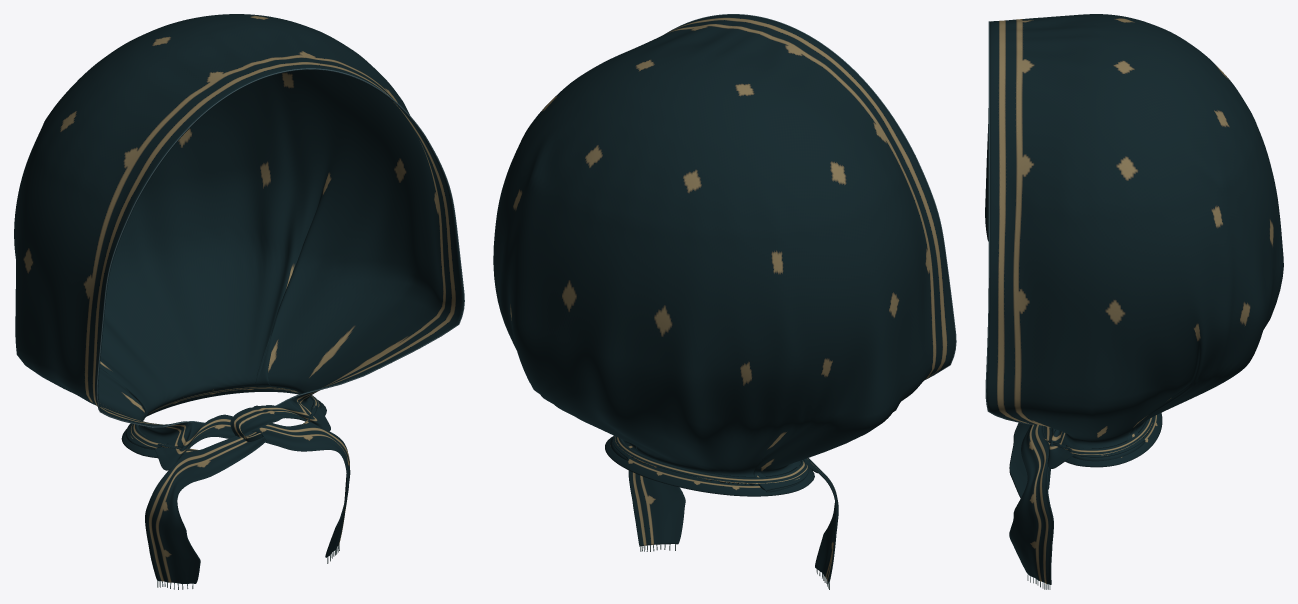
The model's file is Feminine-bandeau-pashmina243-headgear.glb.
The picture shows the model from 3 angles, left to right: view 1: azimuth 30°, elevation 25°; view 2: azimuth 150°, elevation 25°; view 3: azimuth 270°, elevation 25°; orthographic projection. The views are drawn at different scales.
Parts seen in each view (by area): view 1: 226 headgear / Headwear / continuous woven pashmina239, 226 headgear / Headwear / face edge239; view 2: 226 headgear / Headwear / continuous woven pashmina239, 226 headgear / Headwear / face edge239; view 3: 226 headgear / Headwear / continuous woven pashmina239, 226 headgear / Headwear / face edge239.
Part boxes in pixels (x1,y1,x2,y2): 226 headgear / Headwear / continuous woven pashmina239: (14, 14, 463, 583); 226 headgear / Headwear / face edge239: (96, 68, 464, 427); 226 headgear / Headwear / continuous woven pashmina239: (493, 14, 955, 583); 226 headgear / Headwear / face edge239: (664, 14, 956, 379); 226 headgear / Headwear / continuous woven pashmina239: (985, 14, 1283, 584); 226 headgear / Headwear / face edge239: (985, 21, 1034, 424).
Size of the model in its own units: 1.02 by 1.35 by 0.7116.
3 materials, 1 textured.
